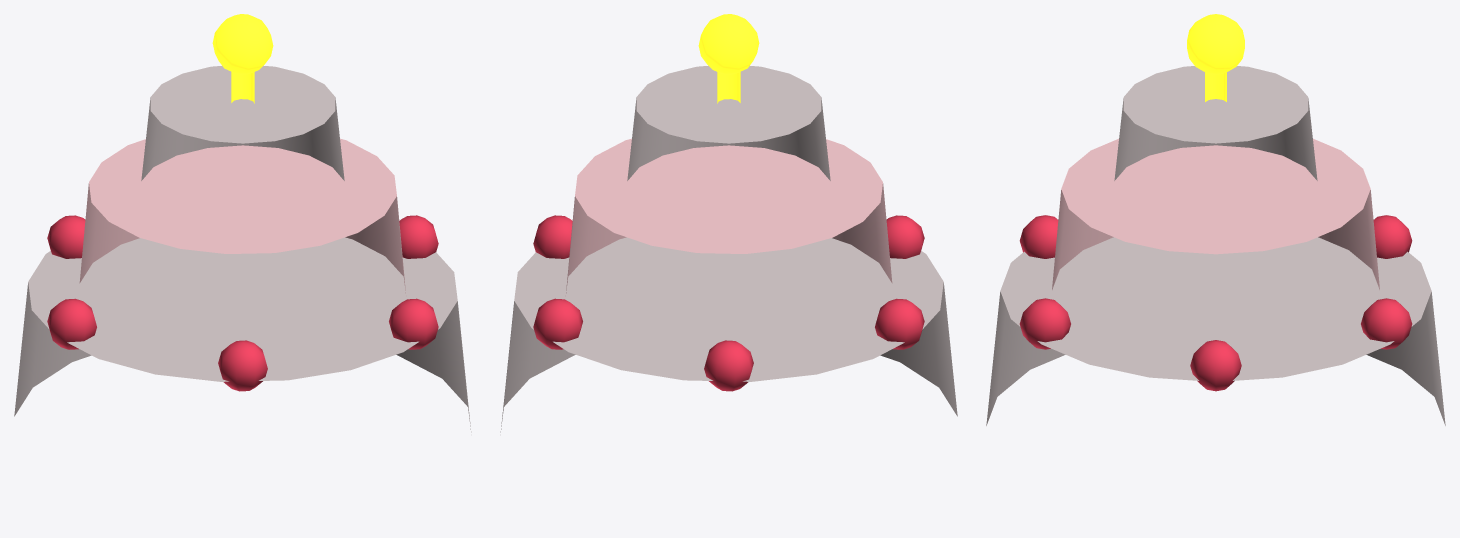
The model's file is stage-cake.glb.
The picture shows the model from 3 angles, left to right: view 1: azimuth 30°, elevation 25°; view 2: azimuth 150°, elevation 25°; view 3: azimuth 270°, elevation 25°; orthographic projection.
Parts seen in each view (by area): view 1: RootAsset; view 2: RootAsset; view 3: RootAsset.
Boxes of the visible parts, box(x1,y1,x2,y2) form: RootAsset: box(14, 14, 471, 432); RootAsset: box(500, 14, 957, 432); RootAsset: box(986, 14, 1445, 425).
Bounding box in the file's own units: 0.98 × 0.965 × 0.98.
